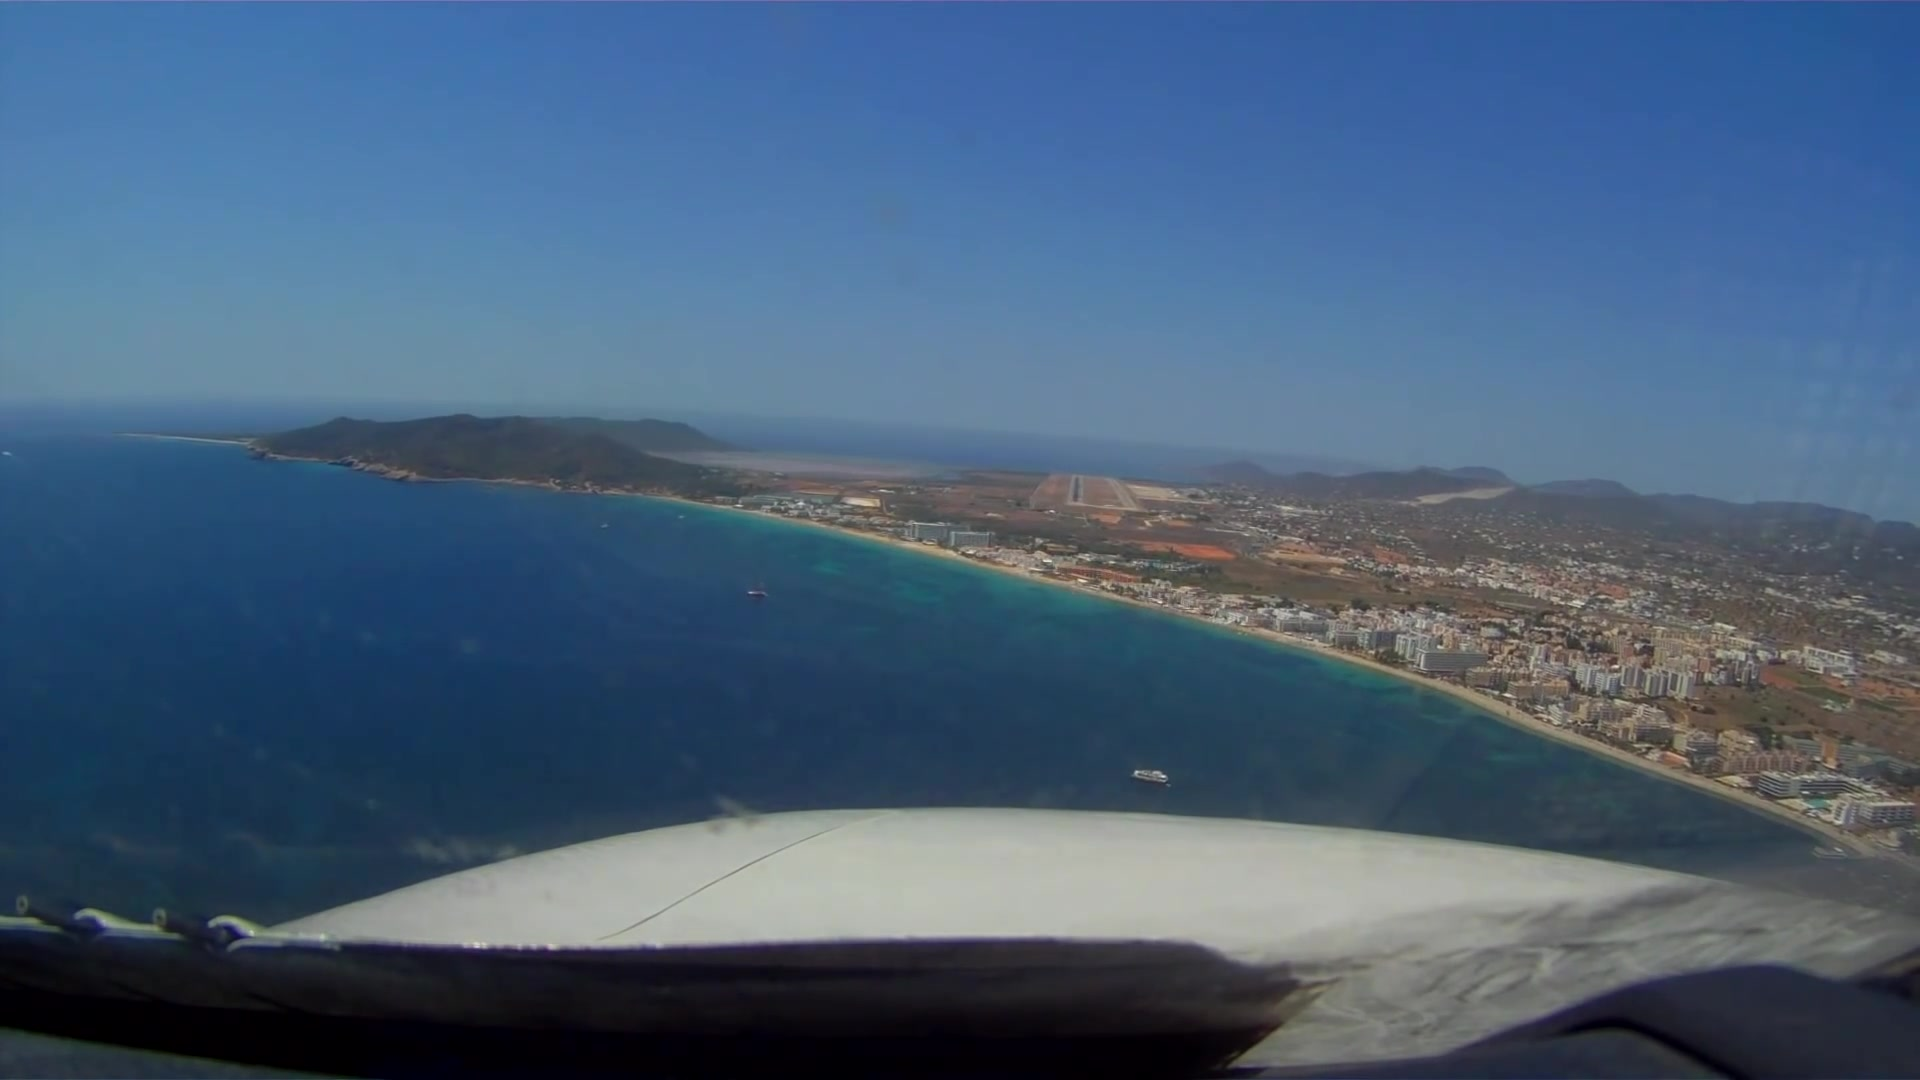runway: (1109, 479, 1139, 513), (1063, 473, 1087, 508)
